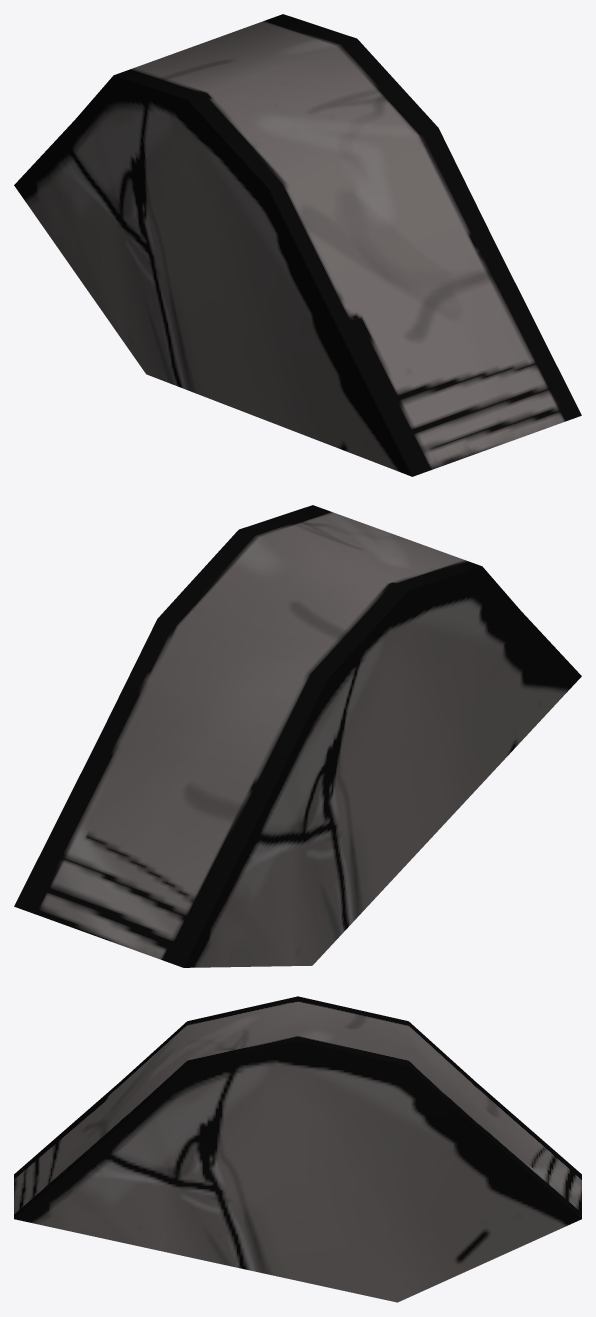
Rendered from tombstone_04_gib2.fbx.
3 views of the same model, one above another, from view 1: azimuth 30°, elevation 25°; view 2: azimuth 150°, elevation 25°; view 3: azimuth 270°, elevation 25° (orthographic). The views are drawn at different scales.
Parts seen in each view (by area): view 1: tombstone_04_gib2; view 2: tombstone_04_gib2; view 3: tombstone_04_gib2.
Part boxes in pixels (x1,y1,x2,y2): tombstone_04_gib2: (14,14,581,476); tombstone_04_gib2: (14,505,581,967); tombstone_04_gib2: (14,996,581,1302).
Bounding box in the file's own units: 1.16 × 1.98 × 4.04.
